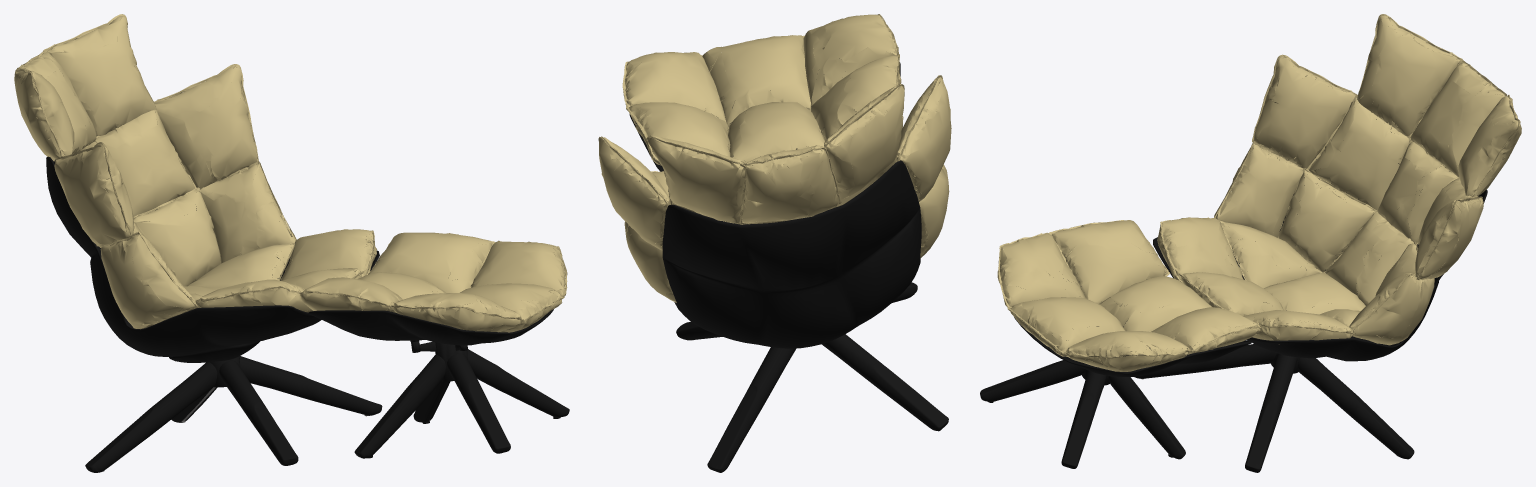
File: 80_percent_geometry_leder.glb
3 views of the same model, side by side, from view 1: azimuth 30°, elevation 25°; view 2: azimuth 150°, elevation 25°; view 3: azimuth 270°, elevation 25° (orthographic). The views are drawn at different scales.
Visible parts, largest first — view 1: Mesh145 Group6 G_3D_H3G_DWG1 Model, Mesh71 Group5 G_3D_H3G_DWG1 Model, Mesh67 Group4 G_3D_H3G_DWG1 Model, Mesh65 Group3 G_3D_HP4_DWG1 Model; view 2: Mesh145 Group6 G_3D_H3G_DWG1 Model, Mesh67 Group4 G_3D_H3G_DWG1 Model, Mesh71 Group5 G_3D_H3G_DWG1 Model; view 3: Mesh145 Group6 G_3D_H3G_DWG1 Model, Mesh71 Group5 G_3D_H3G_DWG1 Model, Mesh67 Group4 G_3D_H3G_DWG1 Model, Mesh65 Group3 G_3D_HP4_DWG1 Model.
Part boxes in pixels (x1,y1,x2,y2): Mesh145 Group6 G_3D_H3G_DWG1 Model: [14, 14, 567, 332]; Mesh71 Group5 G_3D_H3G_DWG1 Model: [85, 340, 569, 472]; Mesh67 Group4 G_3D_H3G_DWG1 Model: [46, 156, 379, 356]; Mesh65 Group3 G_3D_HP4_DWG1 Model: [308, 279, 553, 345]; Mesh145 Group6 G_3D_H3G_DWG1 Model: [598, 14, 951, 302]; Mesh67 Group4 G_3D_H3G_DWG1 Model: [662, 160, 921, 348]; Mesh71 Group5 G_3D_H3G_DWG1 Model: [676, 282, 948, 472]; Mesh145 Group6 G_3D_H3G_DWG1 Model: [997, 14, 1521, 371]; Mesh71 Group5 G_3D_H3G_DWG1 Model: [980, 344, 1414, 472]; Mesh67 Group4 G_3D_H3G_DWG1 Model: [1153, 119, 1487, 361]; Mesh65 Group3 G_3D_HP4_DWG1 Model: [1014, 278, 1251, 376].
Bounding box in the file's own units: 44.98 × 42.93 × 56.86.
